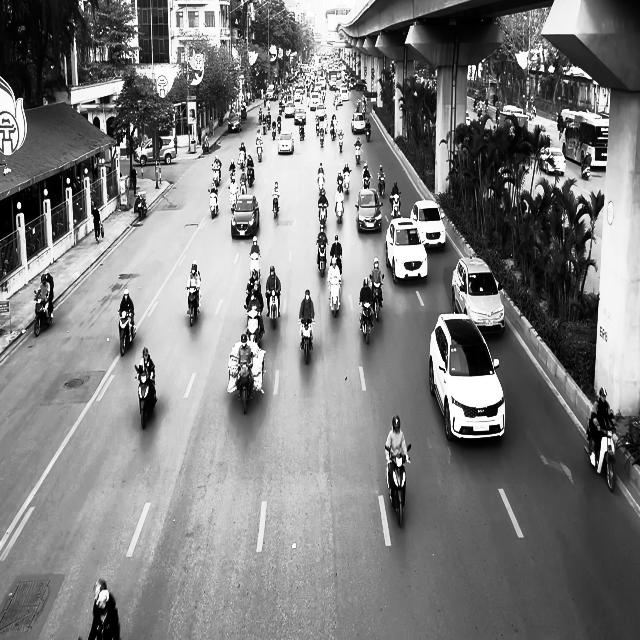bus: (558, 108, 609, 169)
car: (428, 313, 506, 442), (452, 256, 506, 335), (385, 217, 428, 284), (410, 199, 446, 250), (355, 188, 383, 233), (231, 194, 259, 239), (539, 147, 566, 175), (278, 130, 294, 154), (351, 112, 365, 133), (228, 112, 242, 132)
motorbike: (584, 420, 616, 491), (385, 444, 411, 527), (134, 362, 157, 430), (33, 289, 53, 337), (117, 308, 136, 356), (244, 303, 264, 347), (299, 317, 314, 363), (186, 287, 202, 326), (359, 301, 373, 344), (327, 276, 341, 318), (266, 288, 280, 329), (371, 278, 383, 322), (316, 240, 327, 276), (134, 191, 147, 220), (389, 192, 402, 218), (208, 187, 218, 218), (318, 202, 328, 231), (335, 194, 343, 224), (377, 173, 385, 197), (272, 192, 279, 218), (354, 142, 362, 164), (256, 139, 262, 161), (298, 120, 304, 140)
